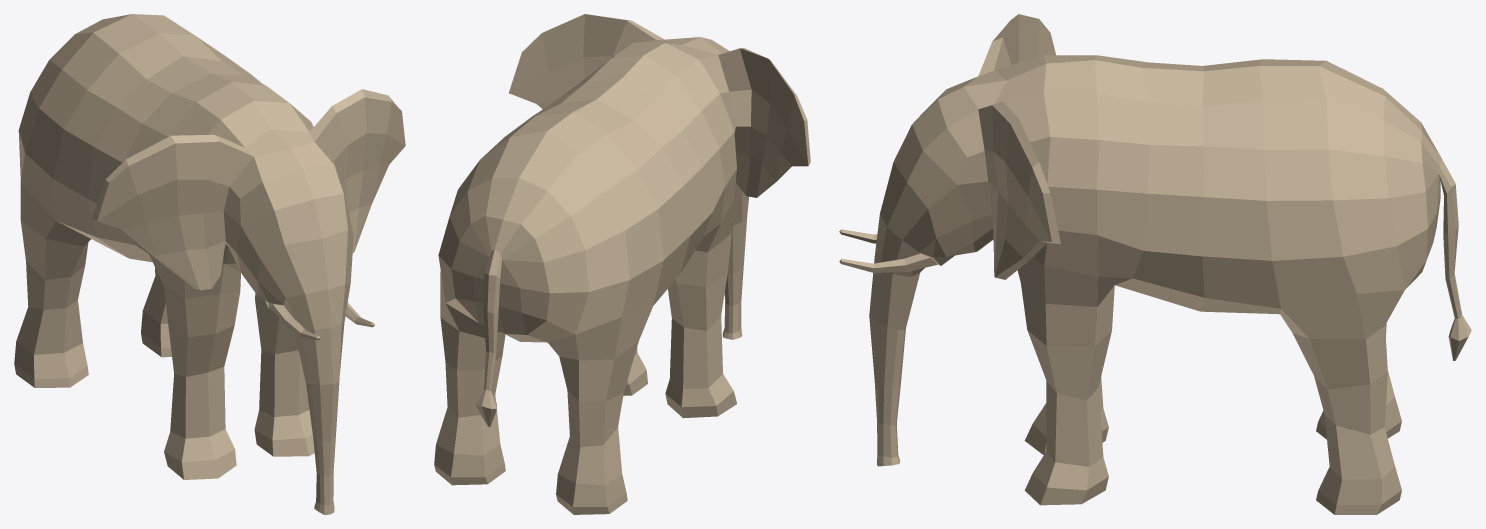
Rendered from xiangshe.glb.
3 renders of one model, left to right at view 1: azimuth 30°, elevation 25°; view 2: azimuth 150°, elevation 25°; view 3: azimuth 270°, elevation 25°, orthographic. The views are drawn at different scales.
Parts seen in each view (by area): view 1: Elephant_Mesh; view 2: Elephant_Mesh; view 3: Elephant_Mesh.
Part boxes in pixels (x1=…): Elephant_Mesh: x1=14, y1=14, x2=405, y2=514; Elephant_Mesh: x1=434, y1=14, x2=810, y2=514; Elephant_Mesh: x1=839, y1=14, x2=1471, y2=514.
Size of the model in its own units: 7.45 by 8.29 by 11.72.
